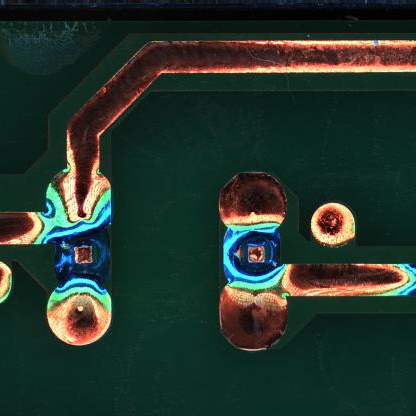spot: (220, 223, 282, 286), (52, 225, 112, 289)
